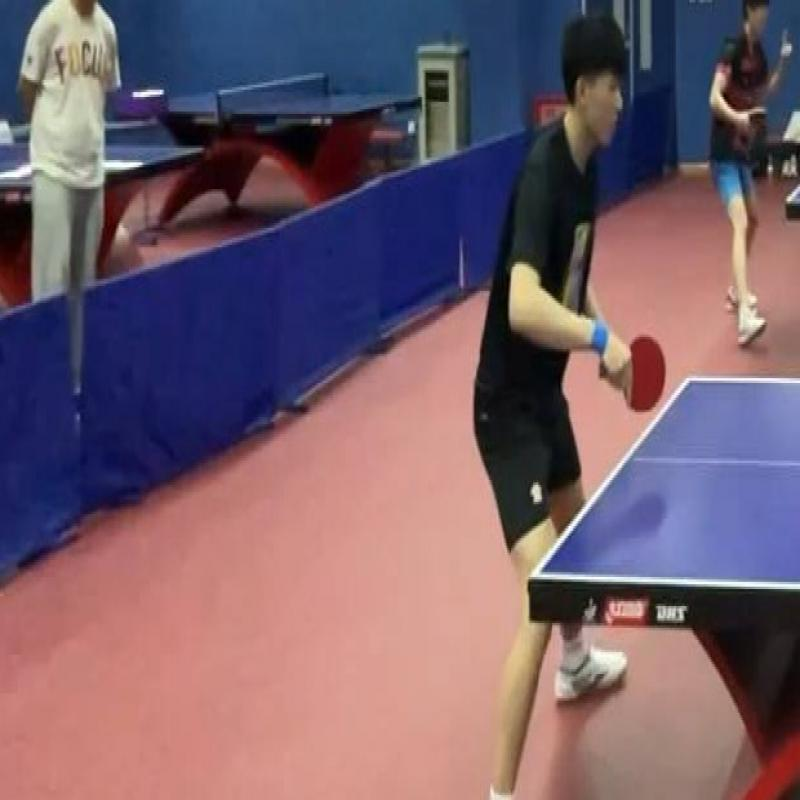bats: (616, 318, 674, 436)
